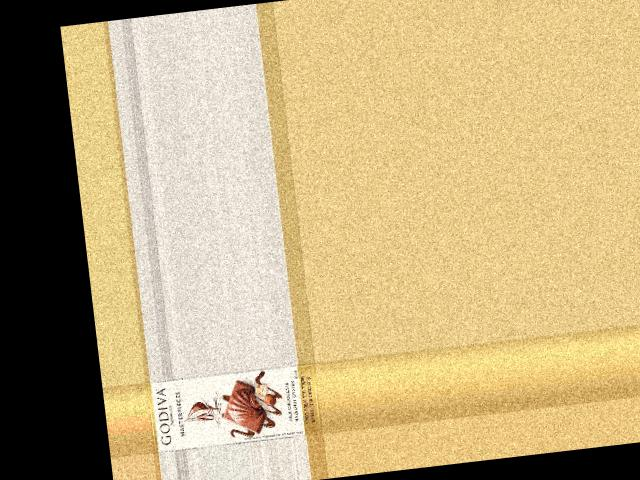chocolate: (145, 362, 322, 452)
